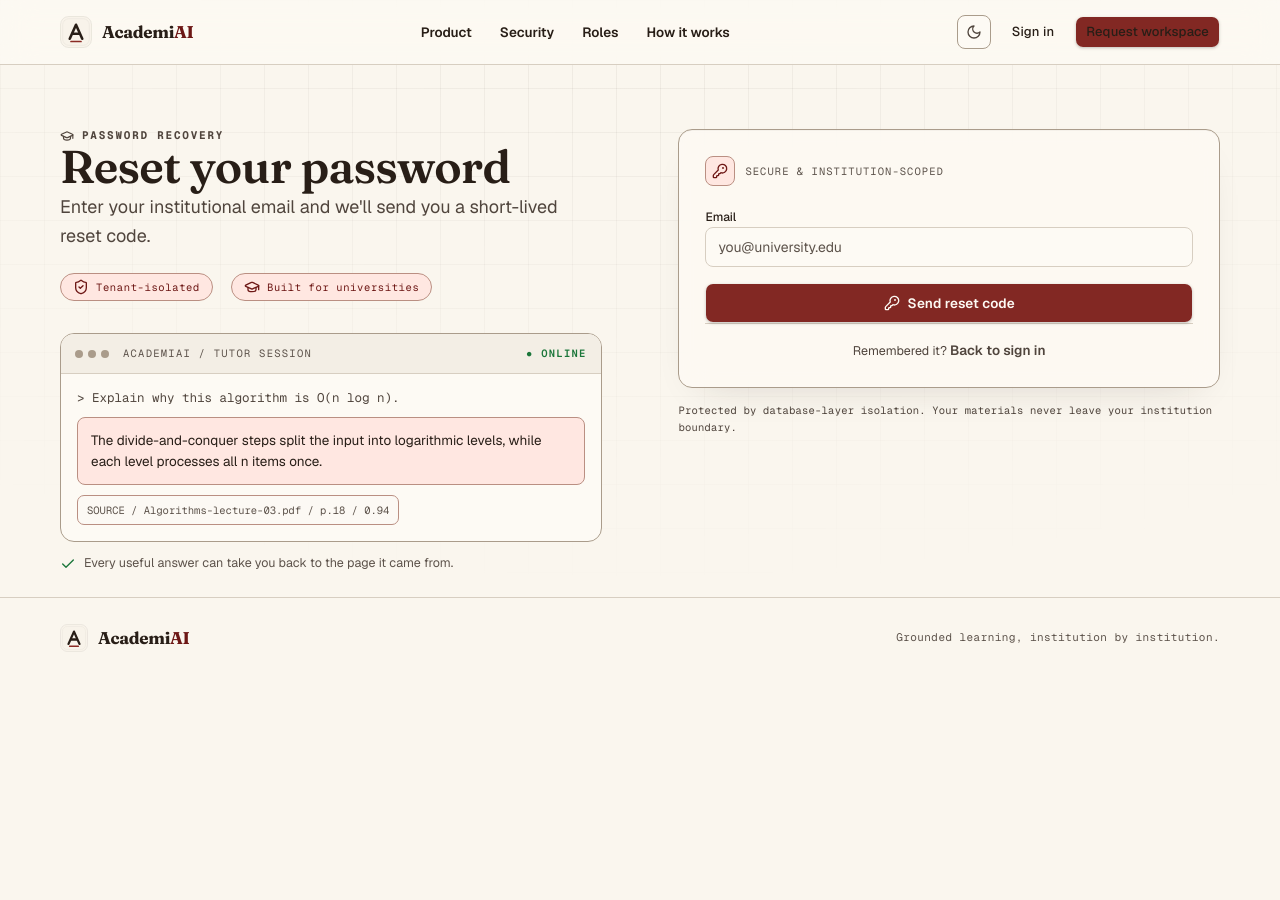
PasswordResetPage 6-digit code › keeps the code field numeric, digits-only and capped at 6
Type "stud@uni.edu" into the field labelled "Email" at [949, 247], box [705, 227, 1193, 267]
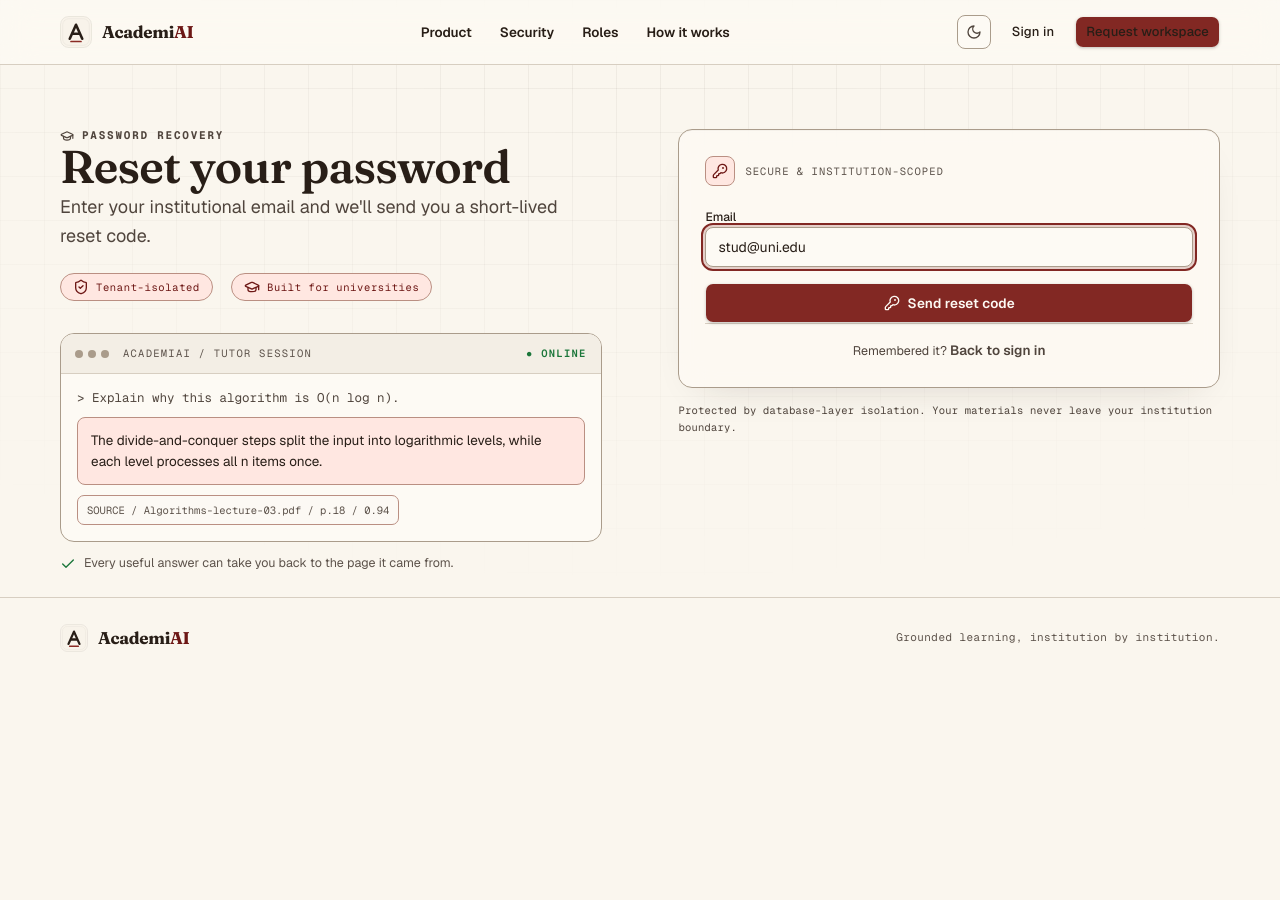
Click the button "Send reset code" at [949, 303], box [705, 283, 1193, 323]
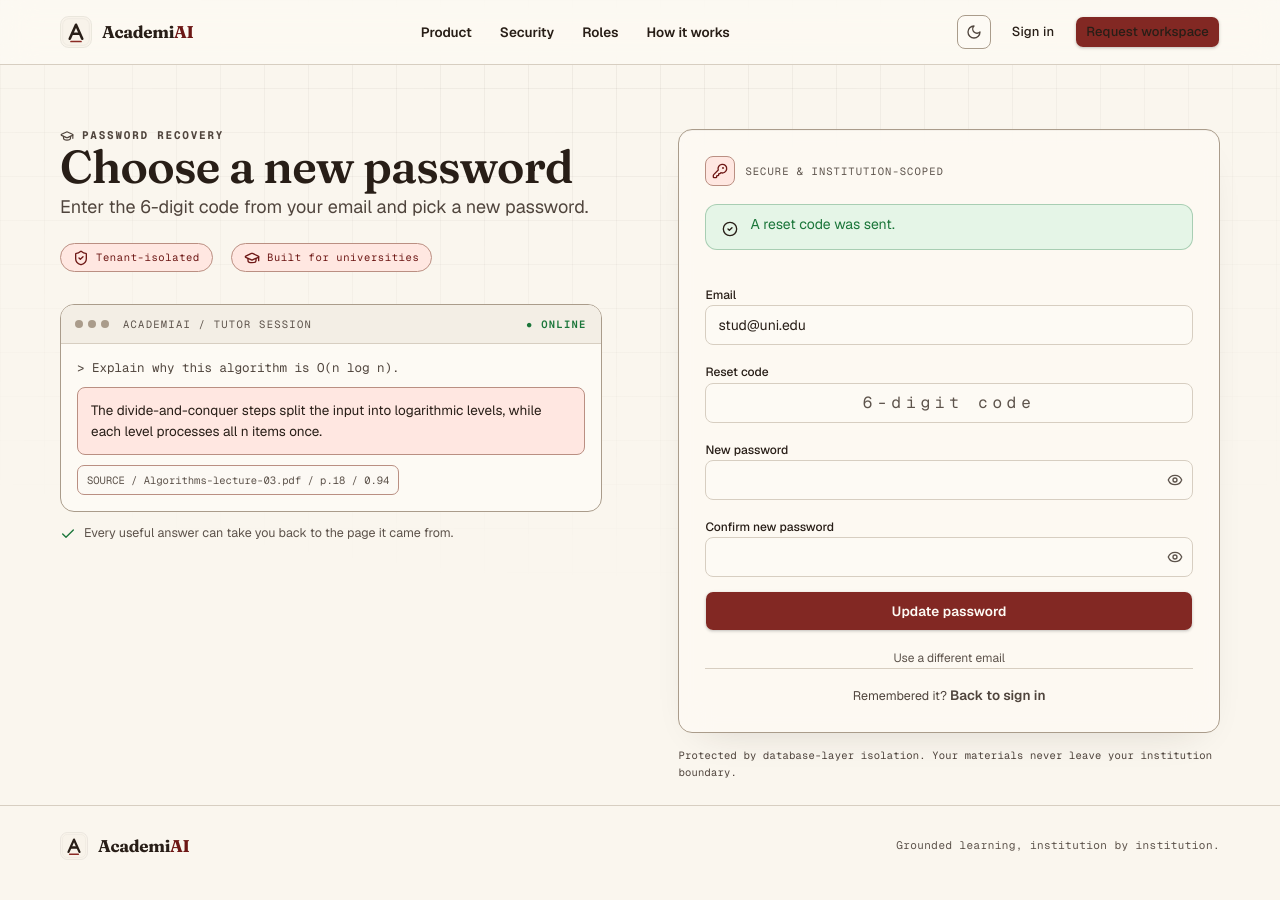
Expected: the field labelled "Reset code" is shown
Type "ab12cd34ef56" into the field labelled "Reset code" at [949, 402], box [705, 382, 1193, 422]
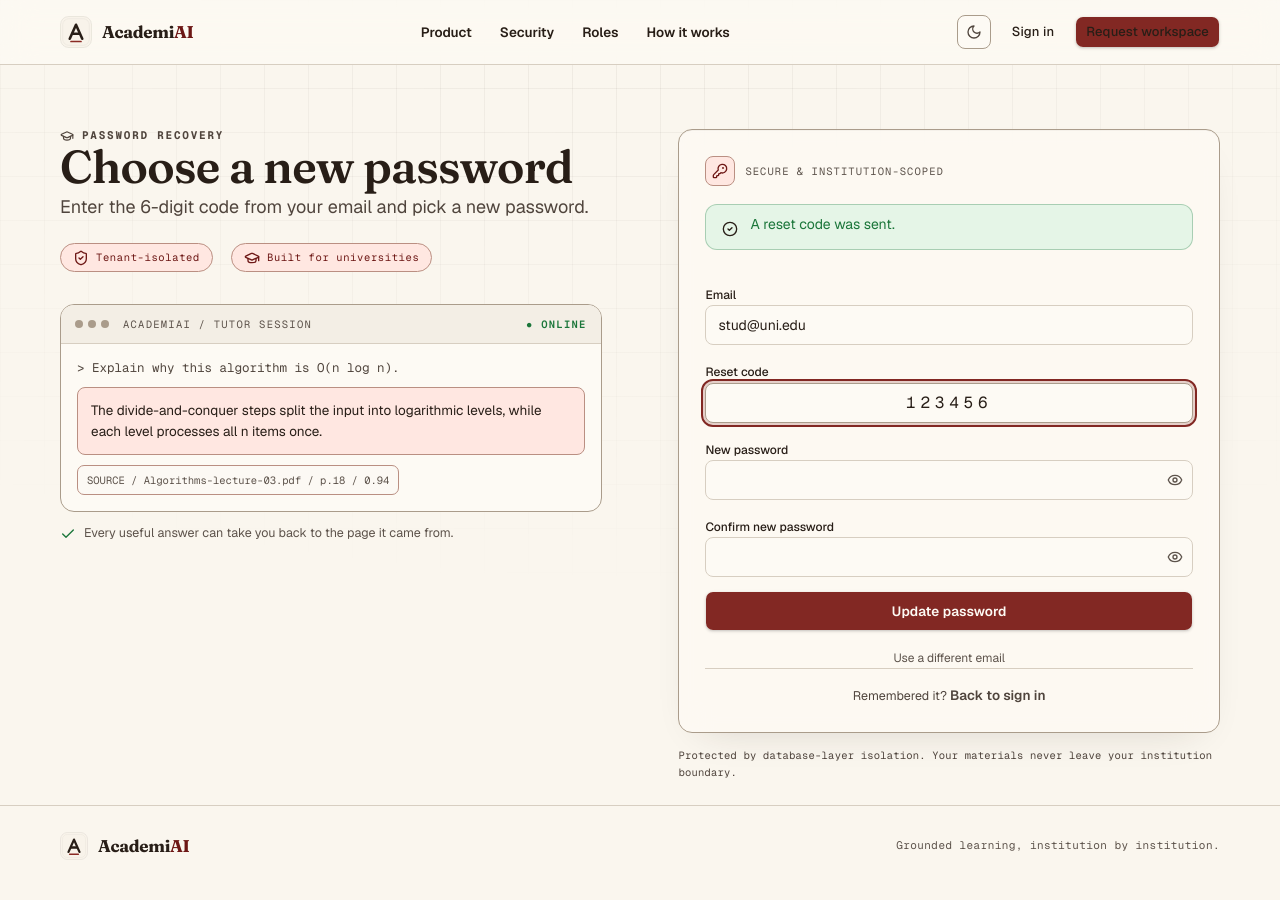
Expected: the field labelled "Reset code" holds "123456", [705, 382, 1193, 422]
